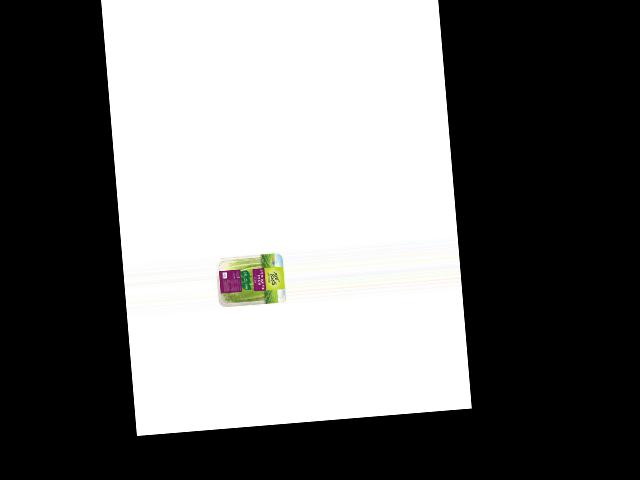lettuce: (214, 252, 281, 307)
